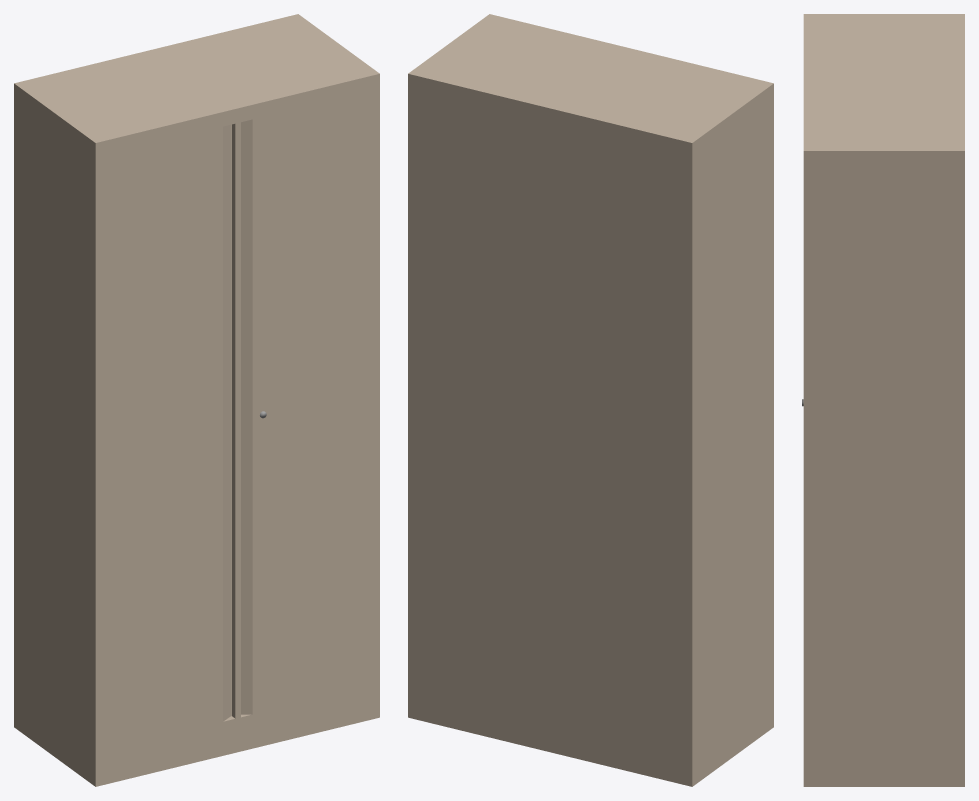
Rendered from TanCabinet.fbx.
The picture shows the model from 3 angles, left to right: view 1: azimuth 30°, elevation 25°; view 2: azimuth 150°, elevation 25°; view 3: azimuth 270°, elevation 25°; orthographic projection.
Visible parts, largest first — view 1: TanCabinet, TanCabinet-DoorR, TanCabinet-DoorL; view 2: TanCabinet; view 3: TanCabinet.
Part boxes in pixels (x1,y1,x2,y2): TanCabinet: [14, 14, 379, 786]; TanCabinet-DoorR: [232, 90, 372, 718]; TanCabinet-DoorL: [103, 124, 231, 750]; TanCabinet: [408, 14, 773, 786]; TanCabinet: [803, 14, 964, 786].
Bounding box in the file's own units: 0.915 × 1.98 × 0.4595.
